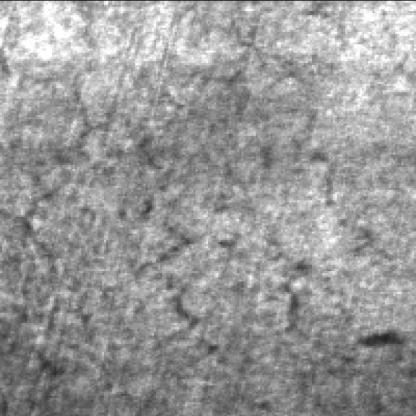crazing: (17, 121, 254, 385), (235, 85, 345, 354)
